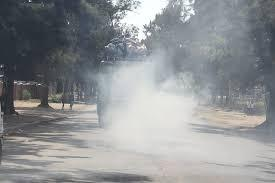smoke: (76, 51, 213, 154)
